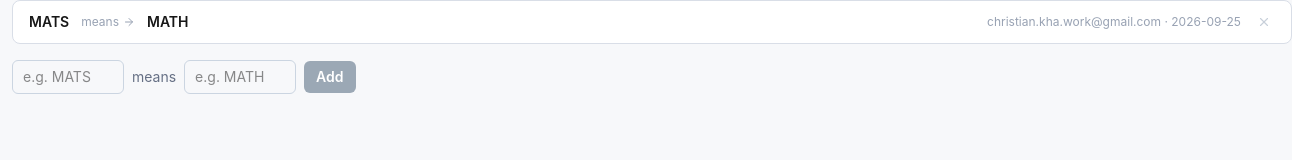
programme codes in Settings › says why a pair is refused, in the server's words
expect the text "MATS" is shown: met, box [29, 12, 69, 32]
Type "MATX" into the field named "The new code" at {"x": 68, "y": 77}, box [12, 60, 124, 94]
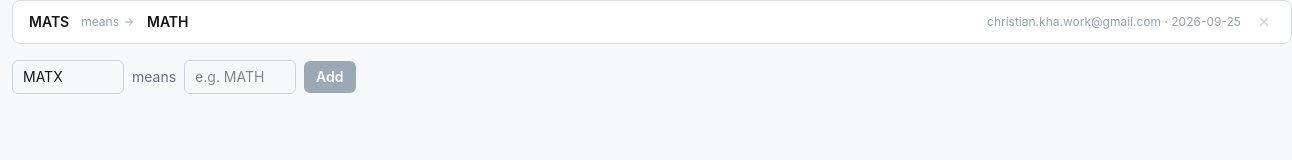
Type "MATS" into the field named "The code it means" at {"x": 240, "y": 77}, box [184, 60, 296, 94]
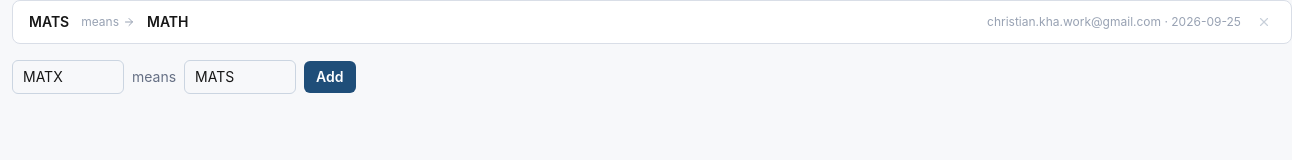
Click the button "Add" at {"x": 330, "y": 77}, box [304, 61, 356, 93]
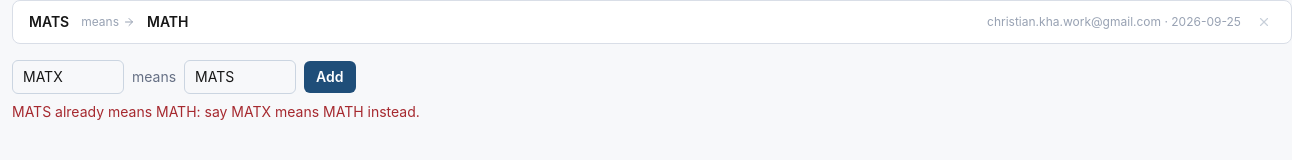
expect the message shows "say MATX means MATH instead": met, box [12, 103, 420, 120]
